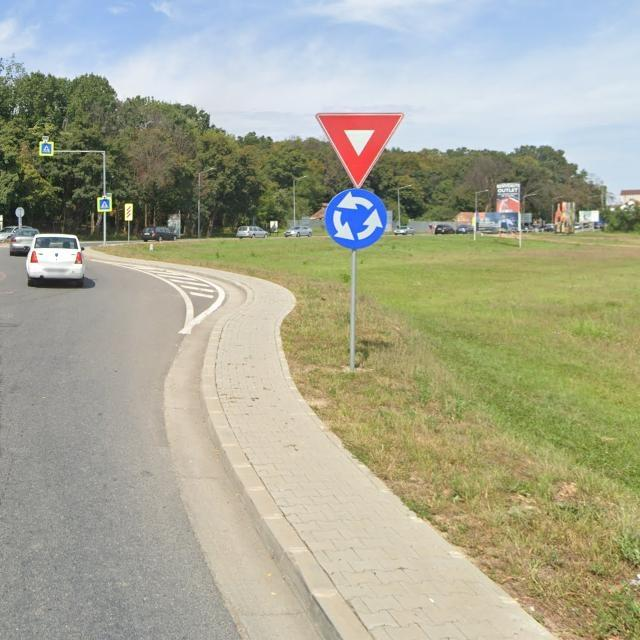info_crosswalk: (98, 197, 113, 211), (40, 143, 53, 156)
prio_give_way: (316, 111, 405, 189)
